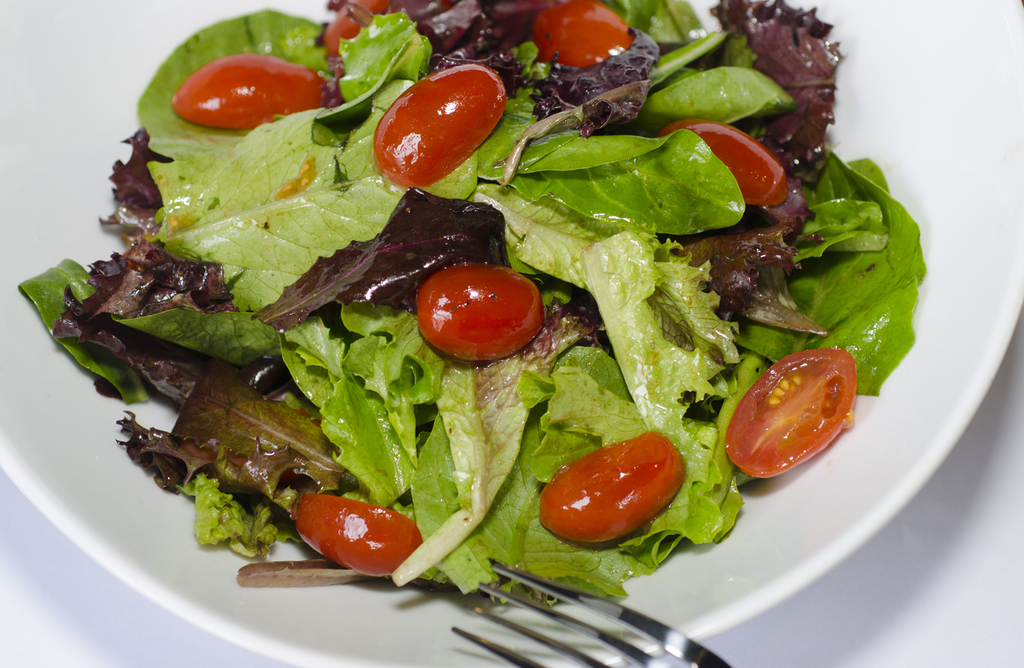salad: (5, 0, 916, 637)
